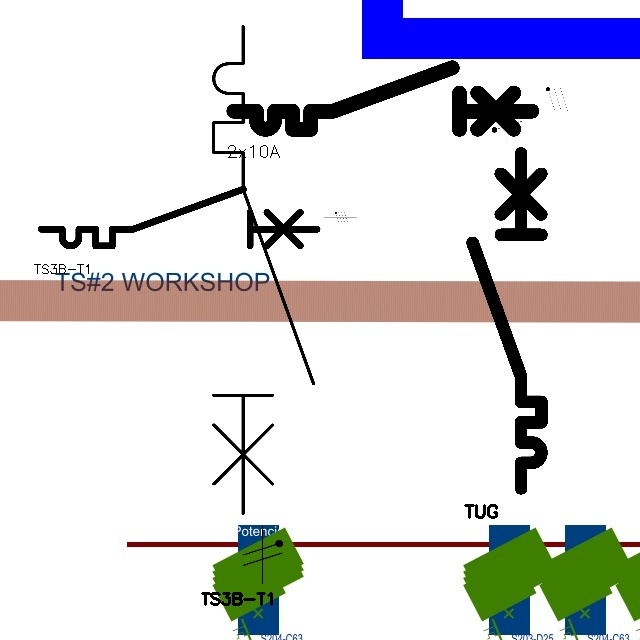interruptor_termomagnetico: (201, 14, 326, 526), (464, 144, 550, 496), (226, 60, 539, 137), (34, 182, 324, 253)
